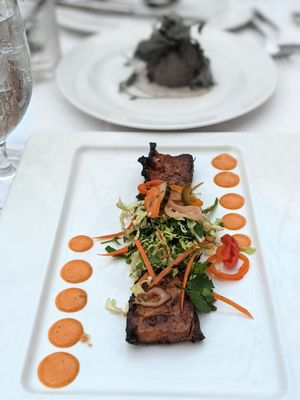curry: (134, 15, 212, 88)
